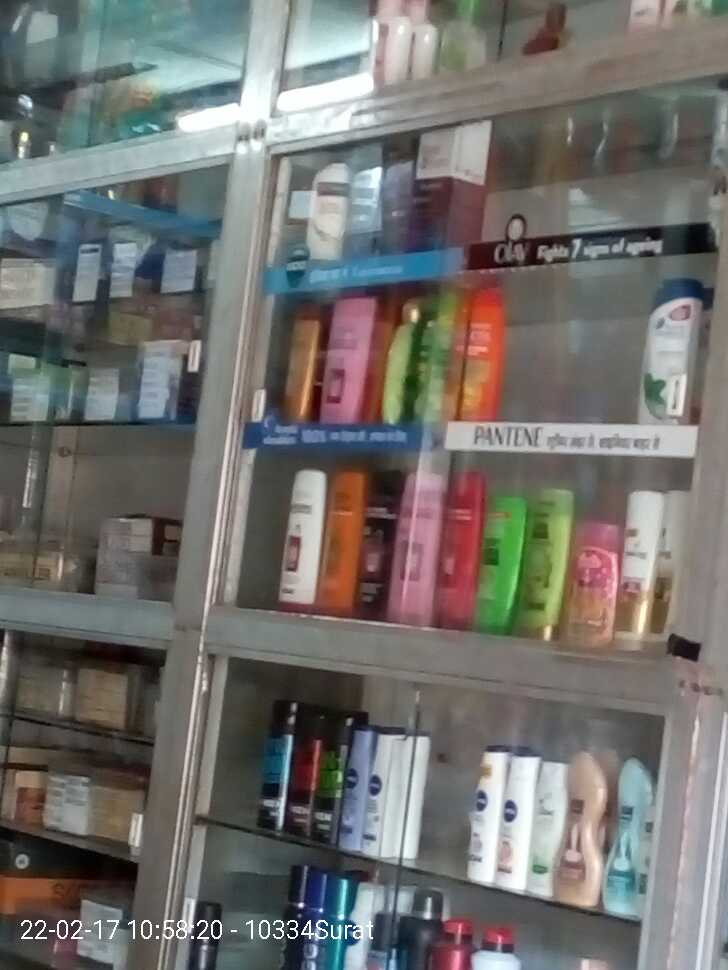beauty: (626, 274, 707, 427)
